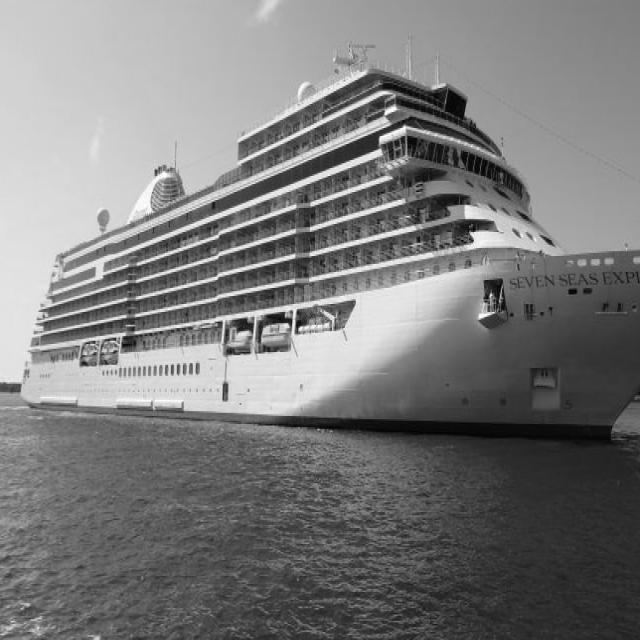cruises: (20, 32, 640, 467)
